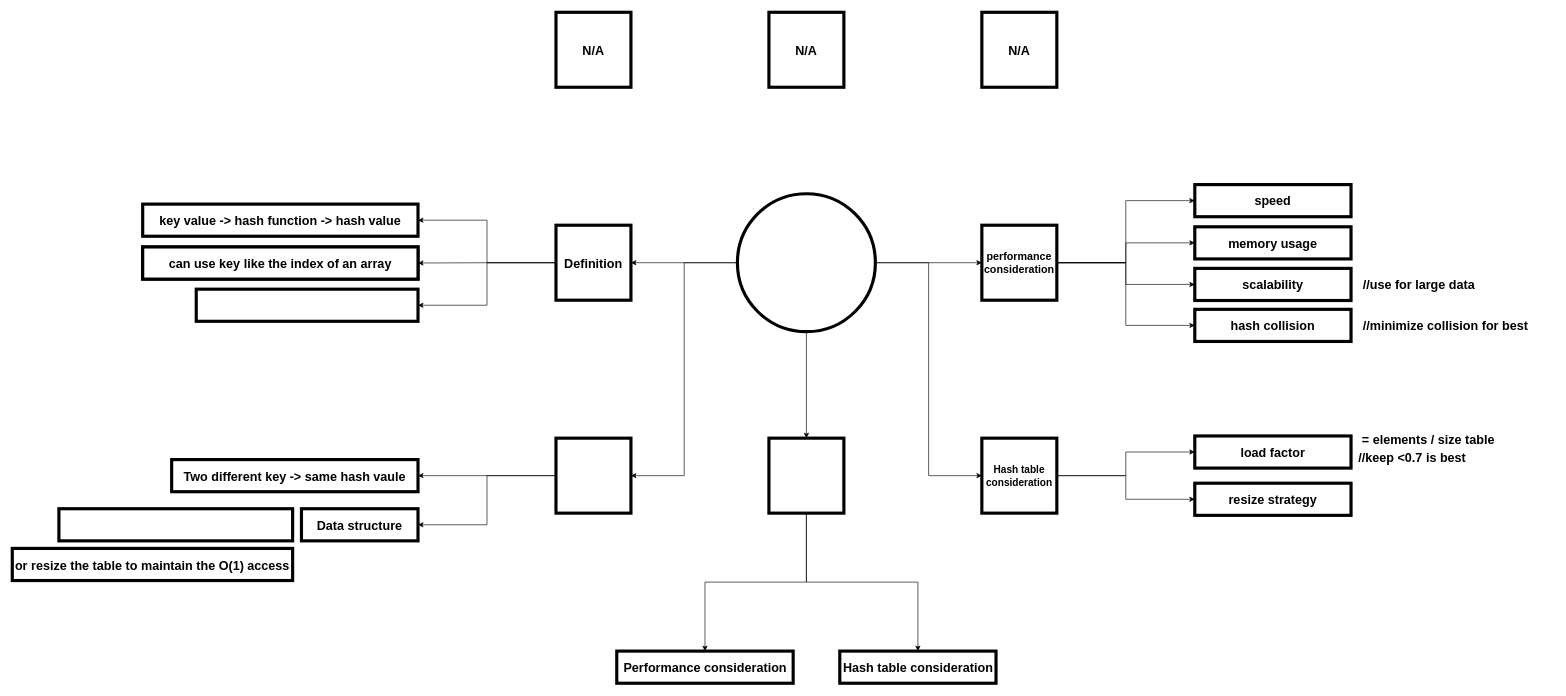
Image size: 1566x696. Some labels were removed from this diagram. Here are the shapes that lost their labels. From the top down, the centre of each, then its label:
the point at 806,262: Hashing
the point at 306,305: or use as encryption for password
the point at 593,475: Collision
the point at 806,475: Reminder
the point at 175,524: turn that hash value into a linked list
